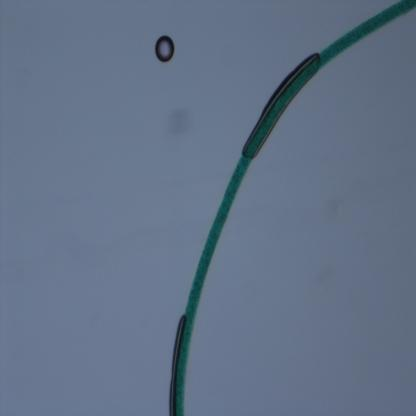Air bubble: (154, 35, 176, 63)
Background material: (169, 108, 194, 135)
Microfibre: (169, 1, 416, 415)
